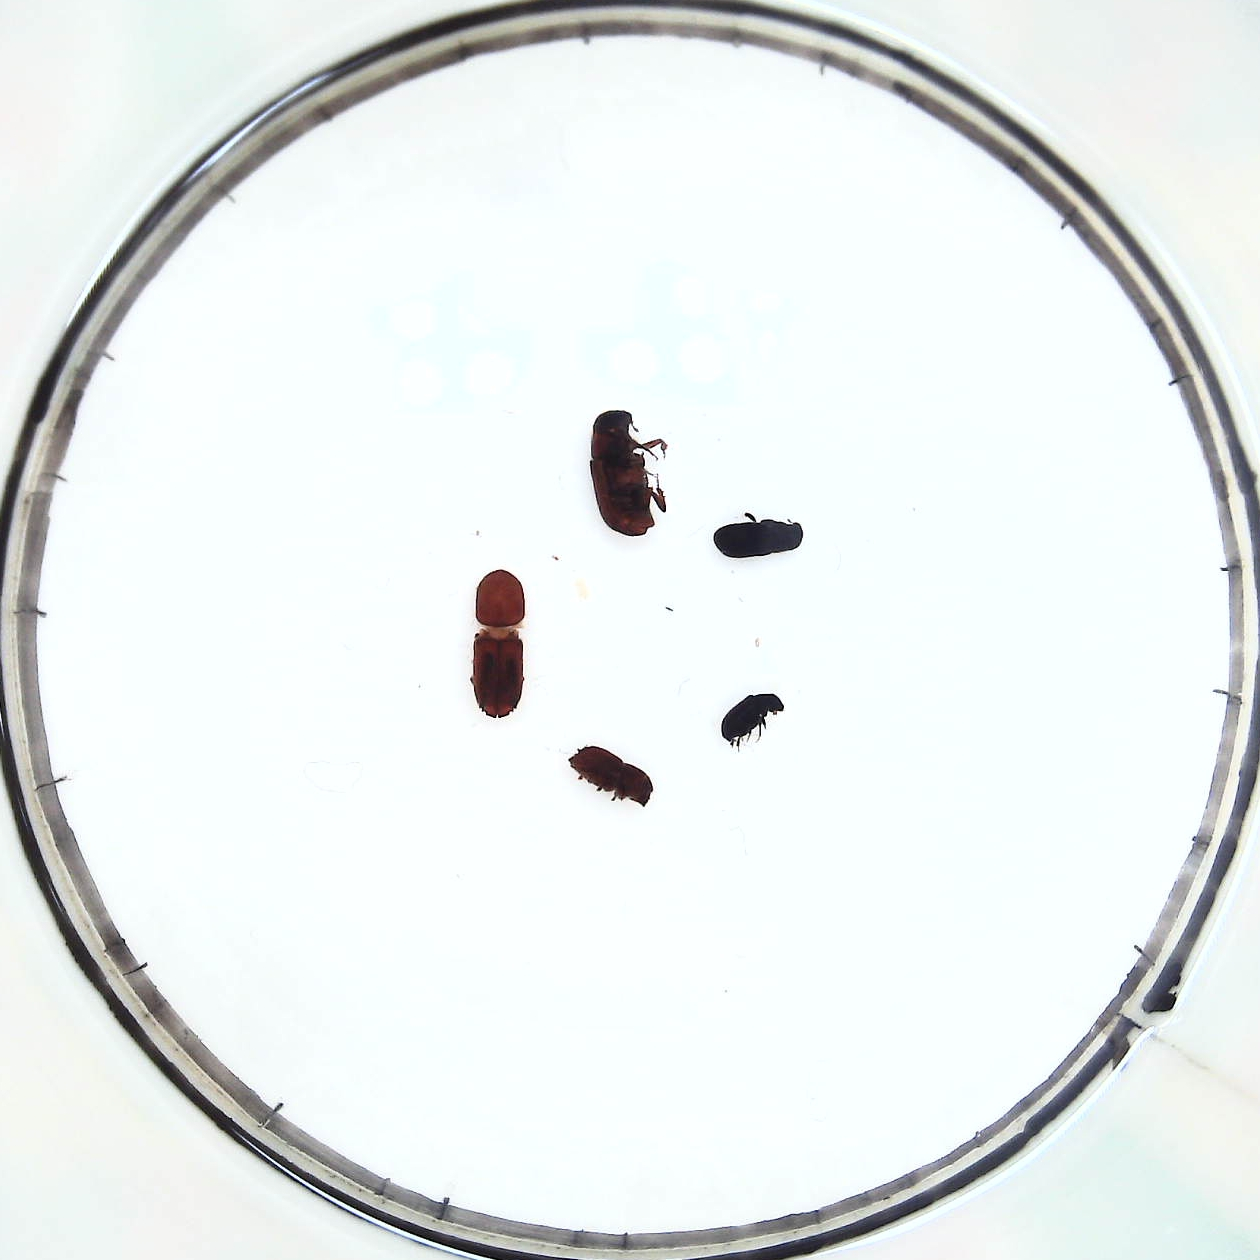Boerner: (473, 564, 531, 715)
Leconte: (588, 408, 673, 540)
Linnaeus: (569, 742, 660, 812)
armandi: (712, 513, 808, 561)
coleoptera: (723, 693, 788, 743)
